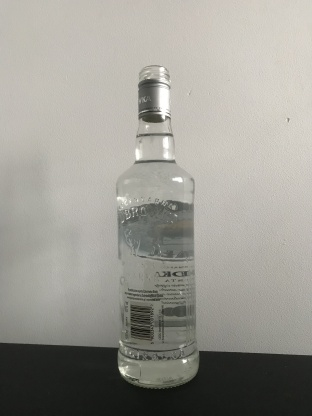nakretka: (135, 62, 173, 124)
